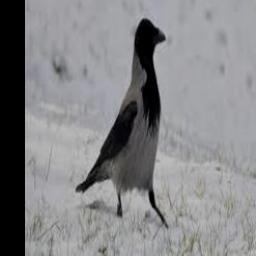Crow: (75, 16, 167, 228)
